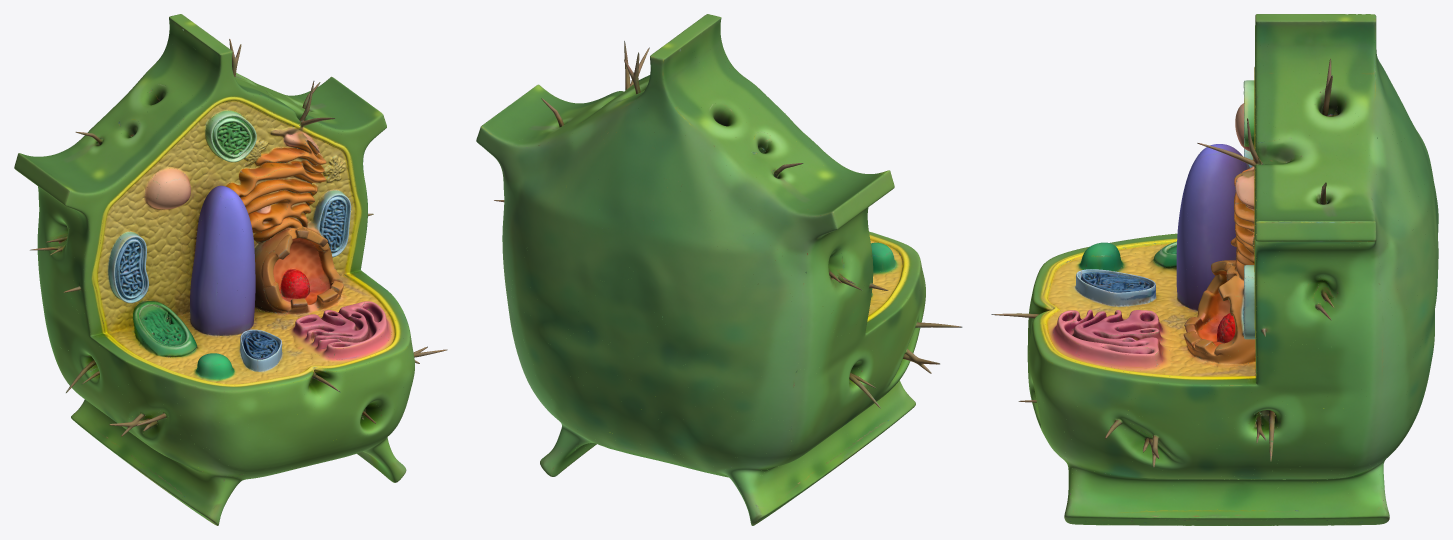
Rendered from plant_cell_diagram-v1.glb.
The picture shows the model from 3 angles, left to right: view 1: azimuth 30°, elevation 25°; view 2: azimuth 150°, elevation 25°; view 3: azimuth 270°, elevation 25°; orthographic projection. The views are drawn at different scales.
Visible parts, largest first — view 1: Object_5, Object_4, Object_6, Object_8, Object_9, Object_7, Object_10, Object_11; view 2: Object_4, Object_5, Object_9, Object_6, Object_7; view 3: Object_5, Object_4, Object_6, Object_9, Object_7, Object_8, Object_11, Object_10.
Boxes of the visible parts, left/top/right/bottom form: Object_5: left=30, top=14, right=414, bottom=525; Object_4: left=18, top=60, right=409, bottom=471; Object_6: left=14, top=82, right=427, bottom=525; Object_8: left=65, top=73, right=385, bottom=416; Object_9: left=16, top=24, right=385, bottom=467; Object_7: left=82, top=136, right=447, bottom=519; Object_10: left=97, top=82, right=351, bottom=458; Object_11: left=98, top=119, right=377, bottom=478; Object_4: left=476, top=41, right=922, bottom=525; Object_5: left=527, top=14, right=915, bottom=525; Object_9: left=477, top=18, right=888, bottom=523; Object_6: left=503, top=75, right=925, bottom=476; Object_7: left=775, top=242, right=962, bottom=505; Object_5: left=1027, top=14, right=1385, bottom=524; Object_4: left=1033, top=15, right=1438, bottom=522; Object_6: left=991, top=99, right=1411, bottom=525; Object_9: left=1186, top=16, right=1437, bottom=525; Object_7: left=1069, top=181, right=1335, bottom=525; Object_8: left=1219, top=26, right=1375, bottom=442; Object_11: left=1185, top=106, right=1243, bottom=525; Object_10: left=1220, top=82, right=1249, bottom=520.
Size of the model in its own units: 1.74 by 2 by 1.77.
1 material, 1 textured.
